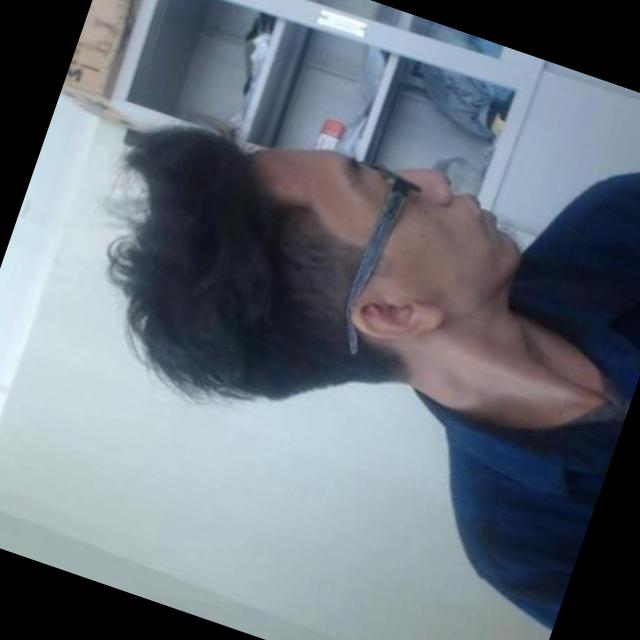bareface: (81, 85, 586, 528)
